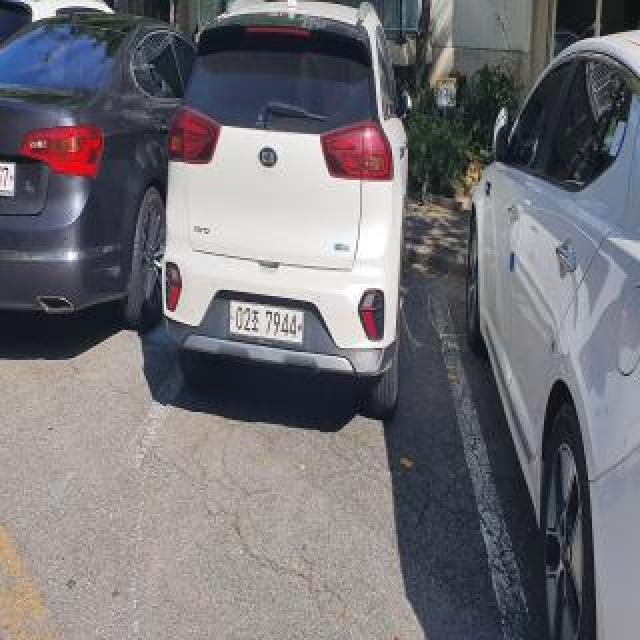car: (158, 0, 420, 419)
illegal_plate: (228, 293, 304, 352)
